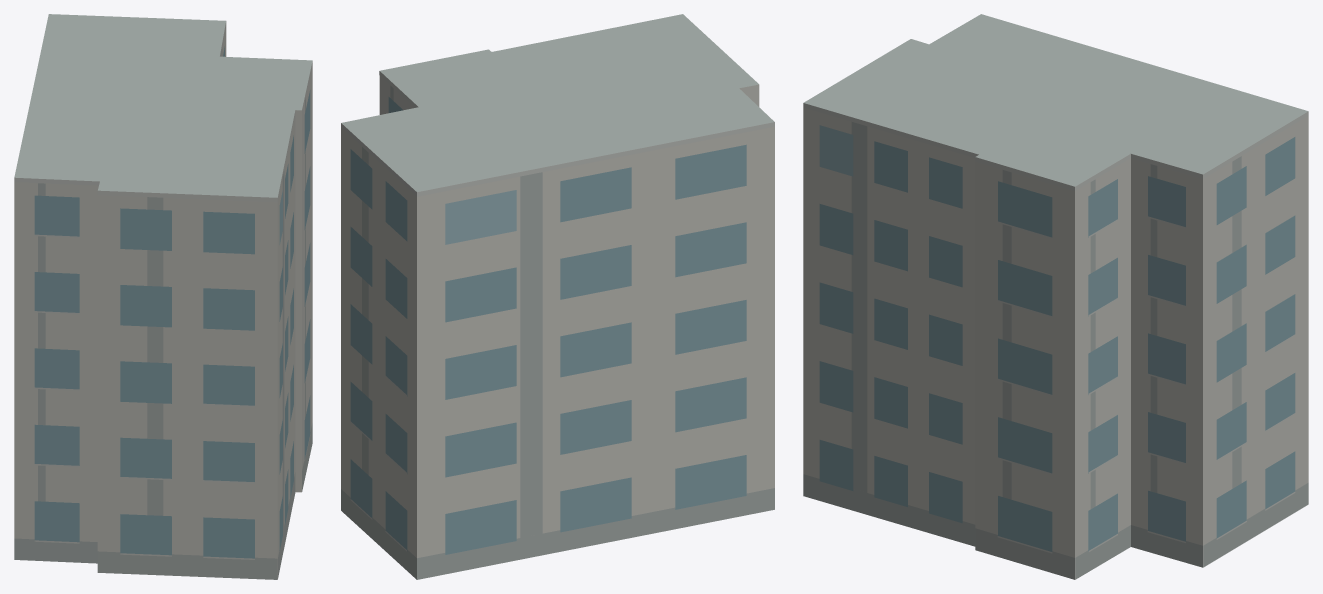
Rendered from survey-upis-32913397.glb.
3 views of the same model, side by side, from view 1: azimuth 30°, elevation 25°; view 2: azimuth 150°, elevation 25°; view 3: azimuth 270°, elevation 25° (orthographic). The views are drawn at different scales.
Parts seen in each view (by area): view 1: survey-upis-32913397.tmp; view 2: survey-upis-32913397.tmp; view 3: survey-upis-32913397.tmp.
Boxes of the visible parts, x1=… form: survey-upis-32913397.tmp: x1=14, y1=14, x2=312, y2=579; survey-upis-32913397.tmp: x1=341, y1=14, x2=774, y2=579; survey-upis-32913397.tmp: x1=803, y1=14, x2=1308, y2=579.
Size of the model in its own units: 19.71 by 20.91 by 24.37.
